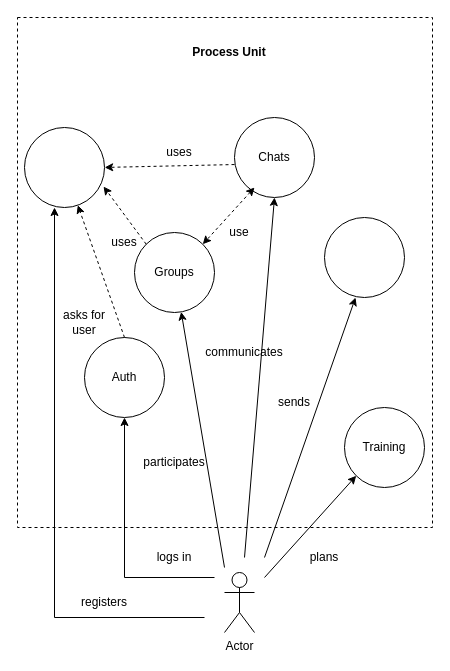
The diagram is 450 pixels wide and 671 high, and some of its shapes have lost their labels. The shapes that lost their labels are listed below. From the top down, each one's centre as x and y in pixels, then its label:
At (64,167): "Users".
At (364,257): "Athletic Metrics".
